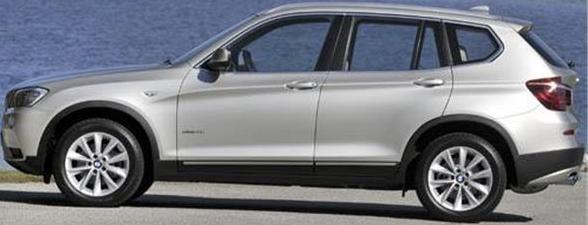backlight: (515, 70, 578, 113)
headlight: (2, 83, 50, 112)
side_glass: (186, 10, 506, 84)
